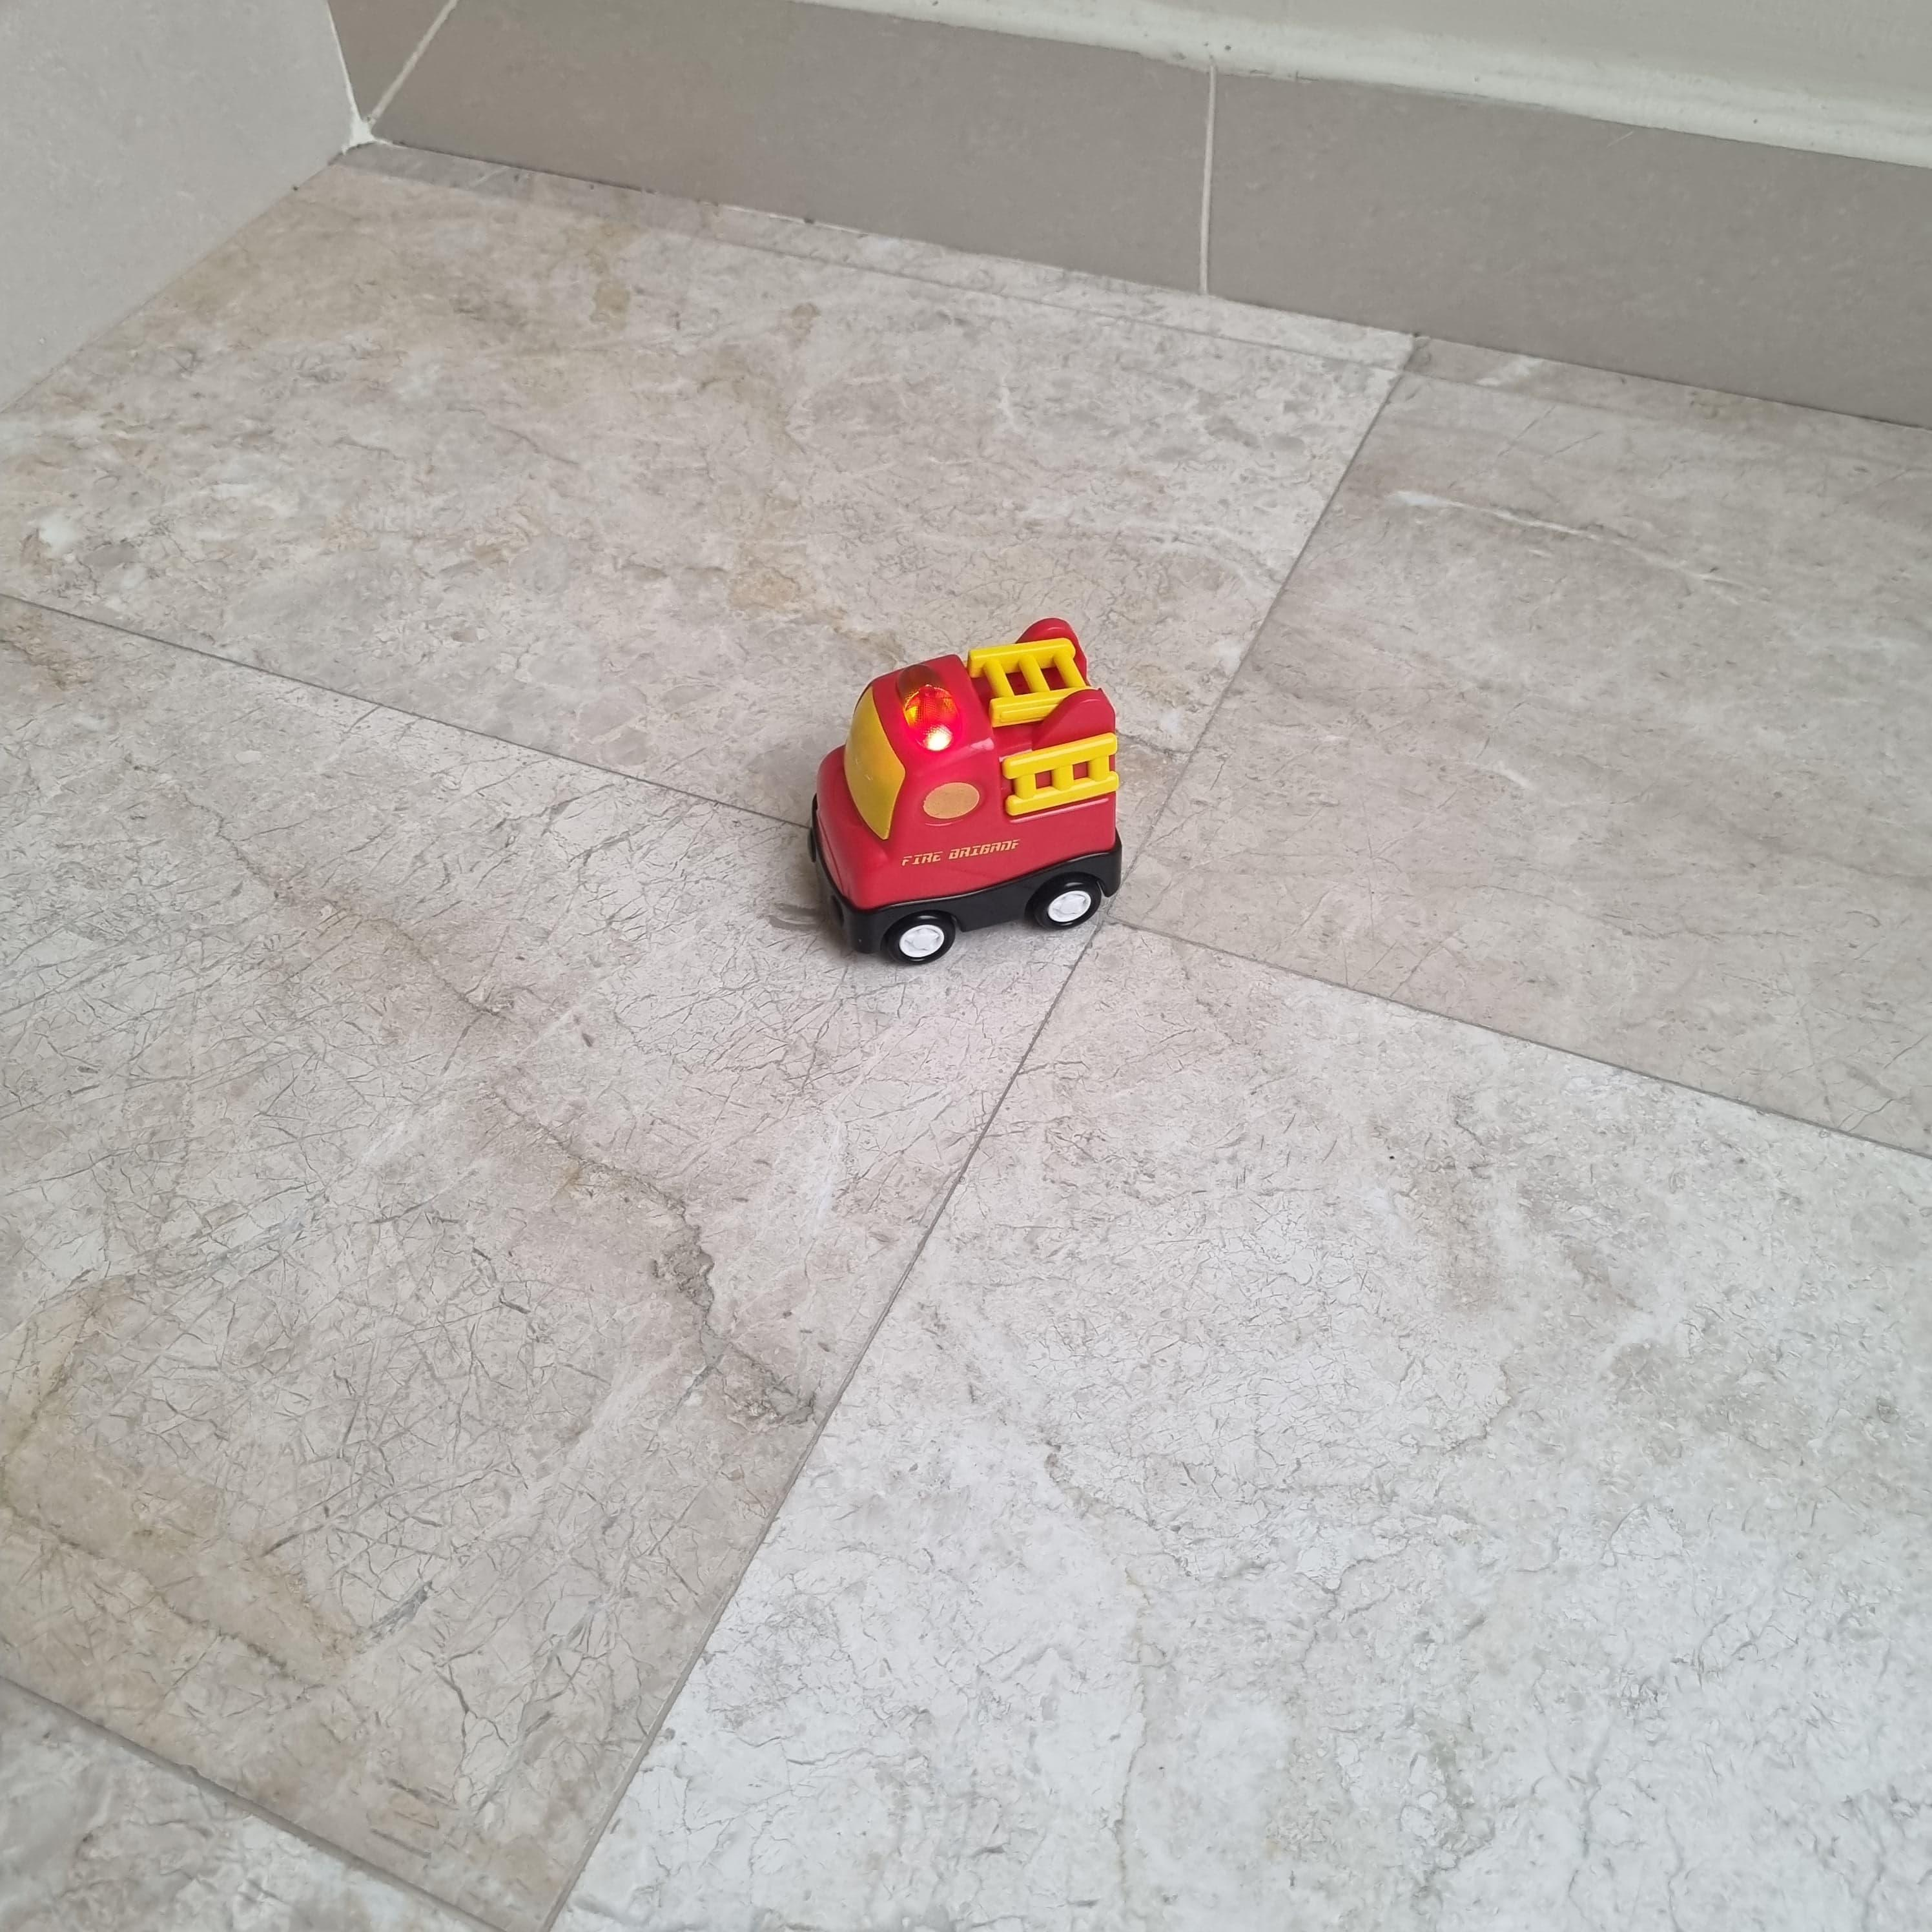firetruck_on: (807, 619, 1123, 964)
